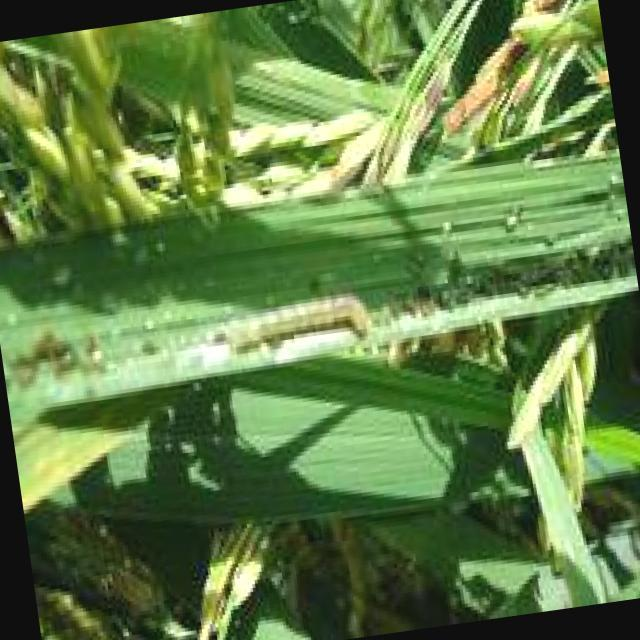leaf folder: (210, 296, 369, 353)
